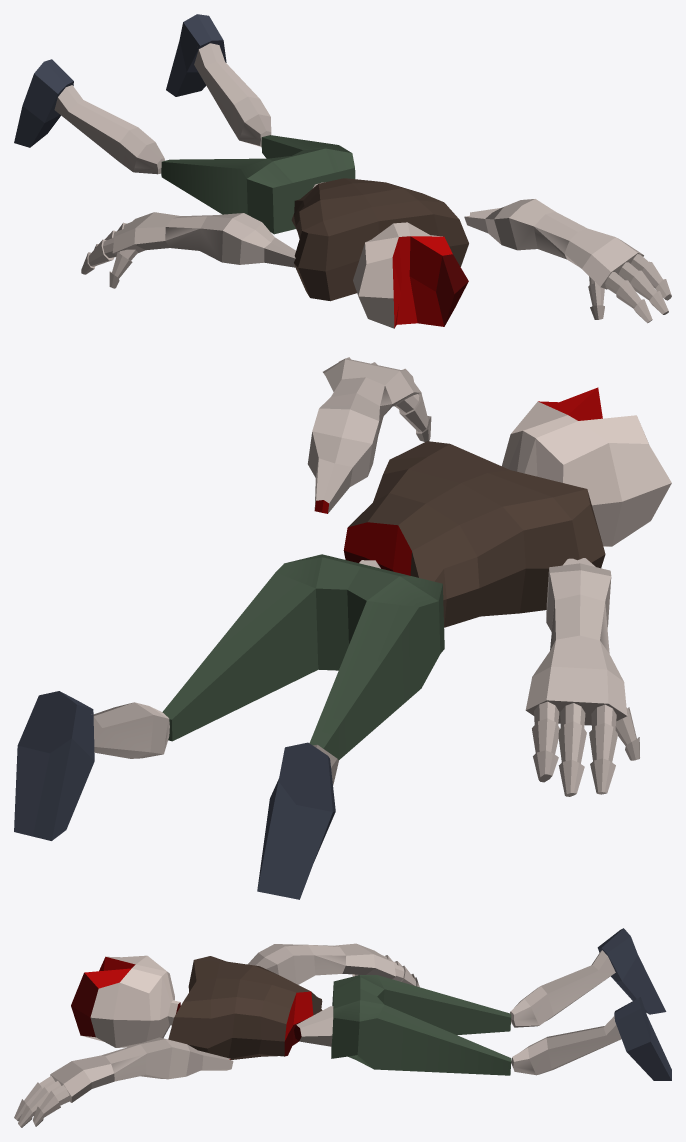
File: deadguy02.fbx
The picture shows the model from 3 angles, top to bottom: view 1: azimuth 30°, elevation 25°; view 2: azimuth 150°, elevation 25°; view 3: azimuth 270°, elevation 25°; orthographic projection. The views are drawn at different scales.
Parts seen in each view (by area): view 1: polySurface78; view 2: polySurface78; view 3: polySurface78.
Part boxes in pixels (x1=…): polySurface78: x1=14, y1=14, x2=671, y2=328; polySurface78: x1=14, y1=357, x2=671, y2=899; polySurface78: x1=14, y1=928, x2=671, y2=1127.
Bounding box in the file's own units: 142 × 37.79 × 232.
